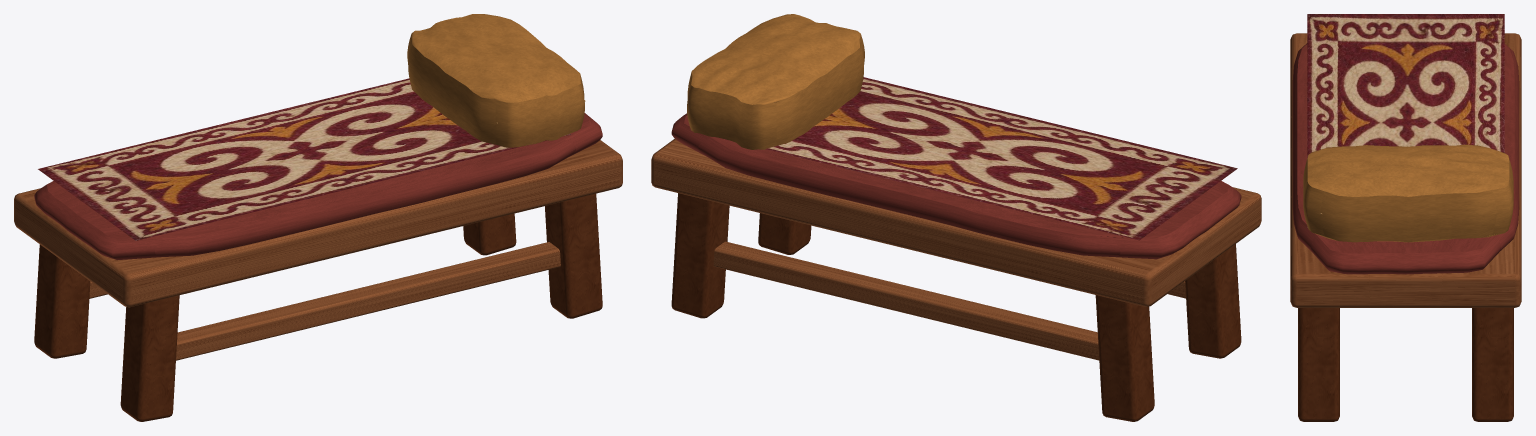
File: bench.glb
The picture shows the model from 3 angles, left to right: view 1: azimuth 30°, elevation 25°; view 2: azimuth 150°, elevation 25°; view 3: azimuth 270°, elevation 25°; orthographic projection.
Visible parts, largest first — view 1: Low wooden bench with bolster; view 2: Low wooden bench with bolster; view 3: Low wooden bench with bolster.
Boxes of the visible parts, <box> form: Low wooden bench with bolster: <box>14,14,622,421</box>; Low wooden bench with bolster: <box>651,14,1261,421</box>; Low wooden bench with bolster: <box>1290,14,1521,421</box>.
Size of the model in its own units: 1.19 by 0.5333 by 0.47.
6 materials, 6 textured.
